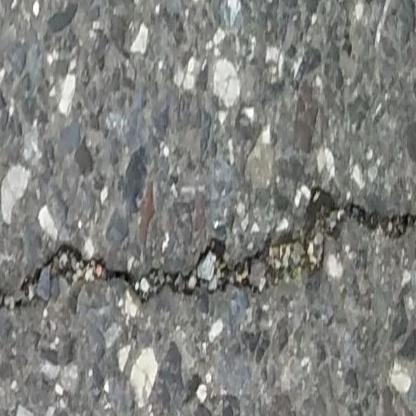Cracks: (25, 187, 416, 303), (0, 301, 6, 349)
